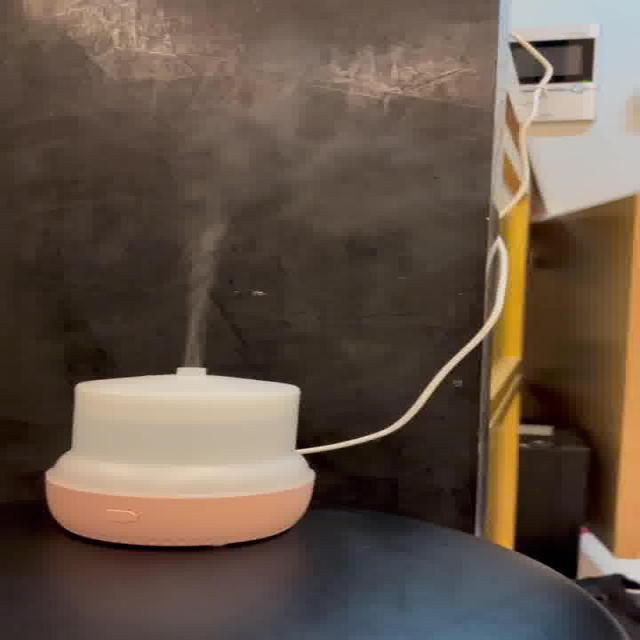fire: (170, 94, 403, 366)
